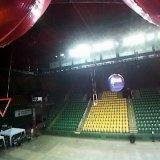Orange_Triangle_Gshape: (0, 98, 13, 116)
Purple_Balloon: (108, 74, 124, 91)
